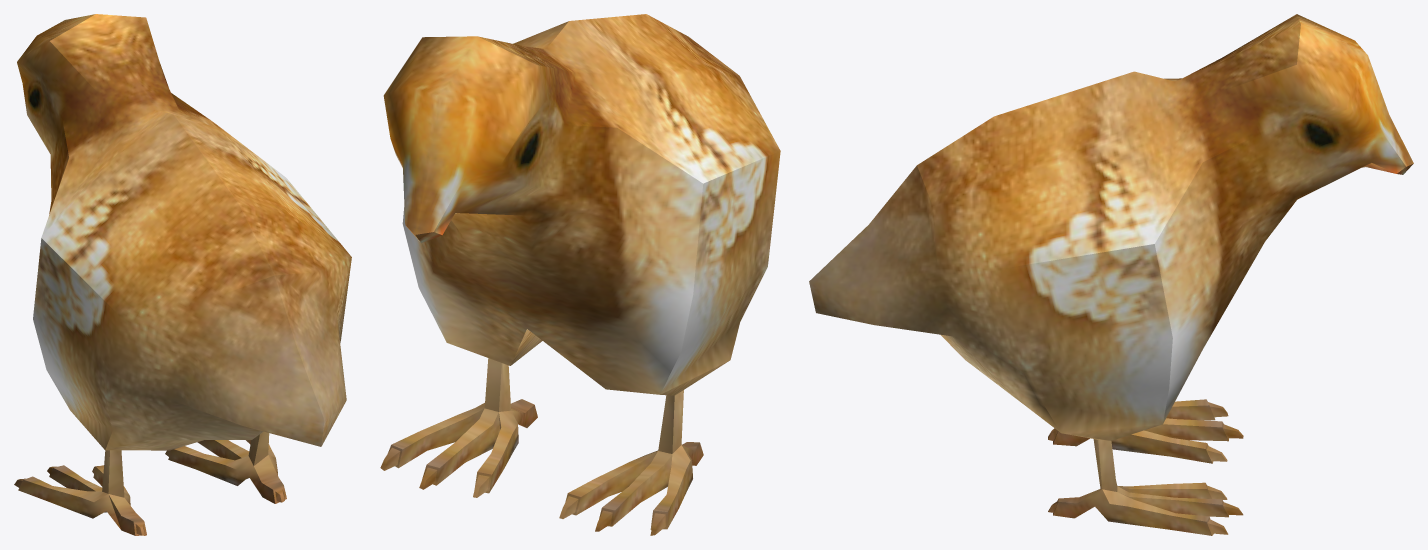
The model's file is pollito.gltf.
3 views of the same model, side by side, from view 1: azimuth 30°, elevation 25°; view 2: azimuth 150°, elevation 25°; view 3: azimuth 270°, elevation 25° (orthographic). The views are drawn at different scales.
Visible parts, largest first — view 1: U3DMesh_mat_3_0; view 2: U3DMesh_mat_3_0; view 3: U3DMesh_mat_3_0.
Boxes of the visible parts, x1=… form: U3DMesh_mat_3_0: x1=14, y1=14, x2=351, y2=535; U3DMesh_mat_3_0: x1=380, y1=14, x2=780, y2=535; U3DMesh_mat_3_0: x1=809, y1=14, x2=1413, y2=535.
Size of the model in its own units: 0.2473 by 0.4081 by 0.4908.
Materials: 1 (1 with a texture image).
